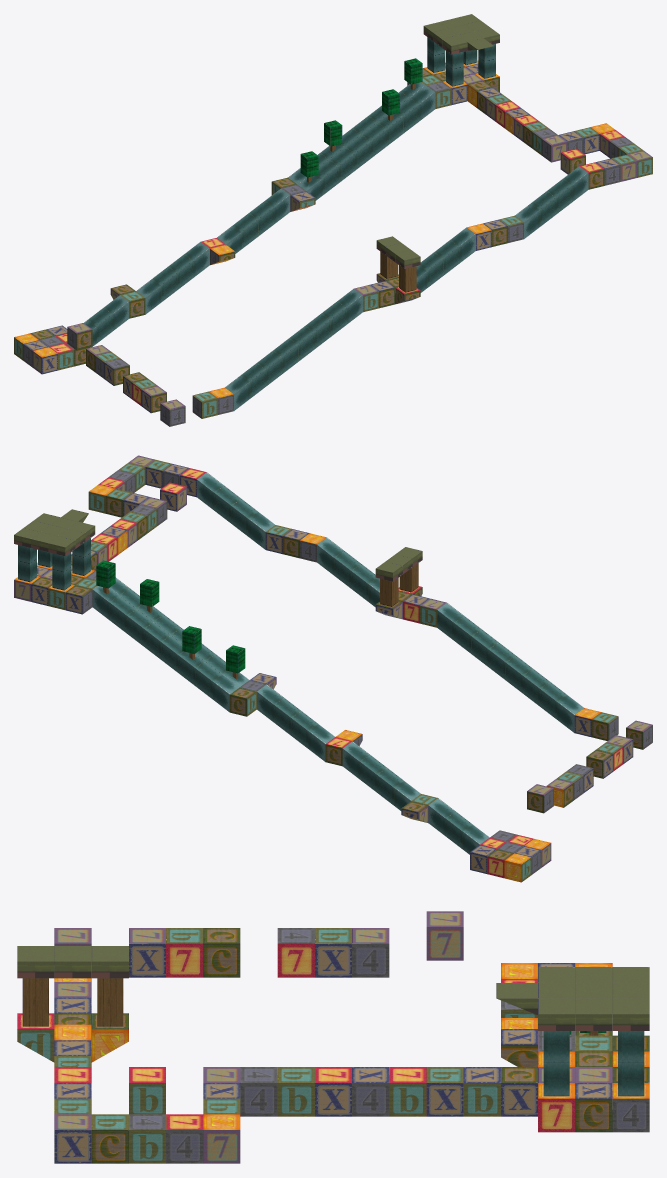
File: test-zone2.glb
3 renders of one model, top to bottom at view 1: azimuth 30°, elevation 25°; view 2: azimuth 150°, elevation 25°; view 3: azimuth 270°, elevation 25°, orthographic. The views are drawn at different scales.
Parts seen in each view (by area): view 1: Frame_0.003; view 2: Frame_0.003; view 3: Frame_0.003.
Boxes of the visible parts, bbox=[...] form: Frame_0.003: bbox=[14, 14, 652, 426]; Frame_0.003: bbox=[14, 455, 652, 882]; Frame_0.003: bbox=[17, 911, 649, 1163].
Bounding box in the file's own units: 155 × 65 × 85.
Materials: 1 (1 with a texture image).
